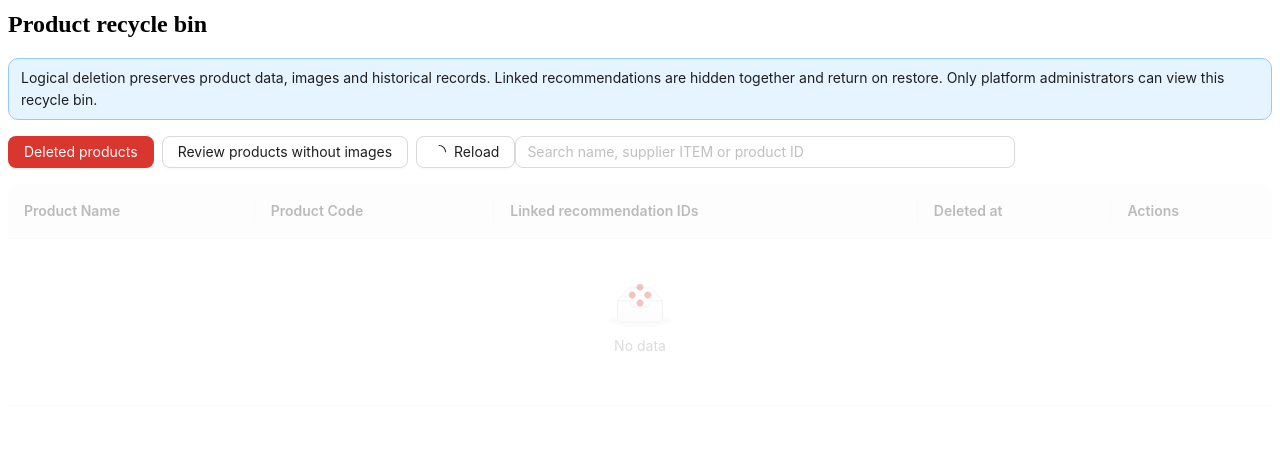
reviews no-image selection, uses versioned logical delete and reloads without duplicate submission
Click the button "Review products without images".
click(285, 152)  # box [162,136,408,168]
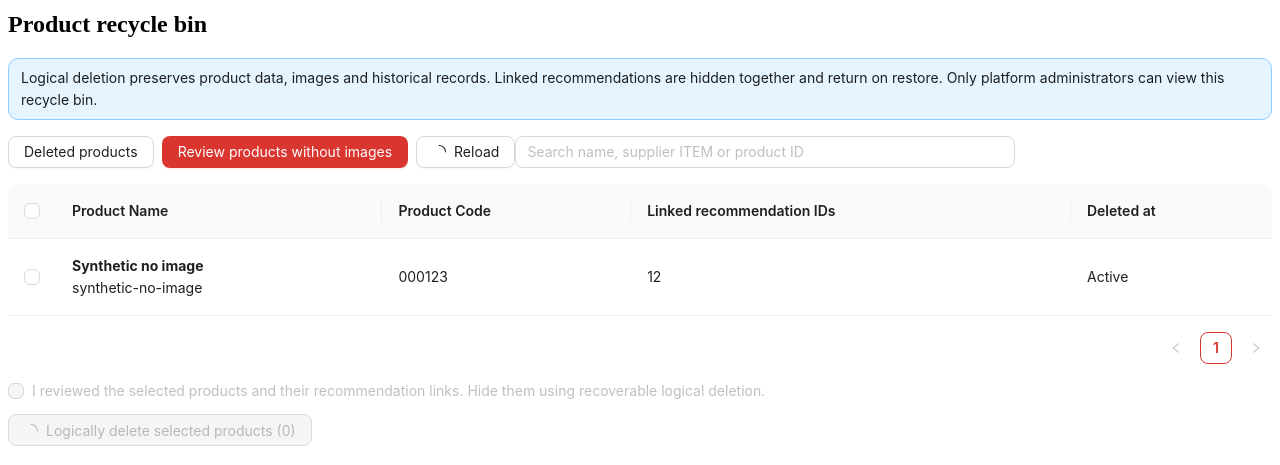
Check: the button "Logically delete selected products (0)" is disabled, box [8,414,312,446]
Click the checkbox next to "Synthetic no image".
click(32, 277)  # box [24,266,40,288]
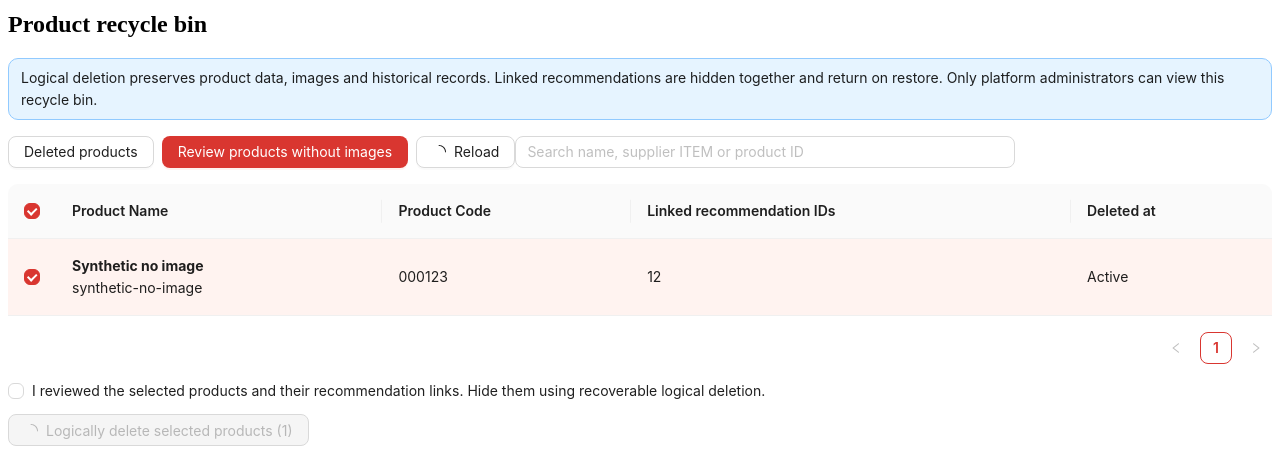
Click the checkbox labelled "I reviewed the selected products".
click(391, 391)  # box [8,380,773,402]
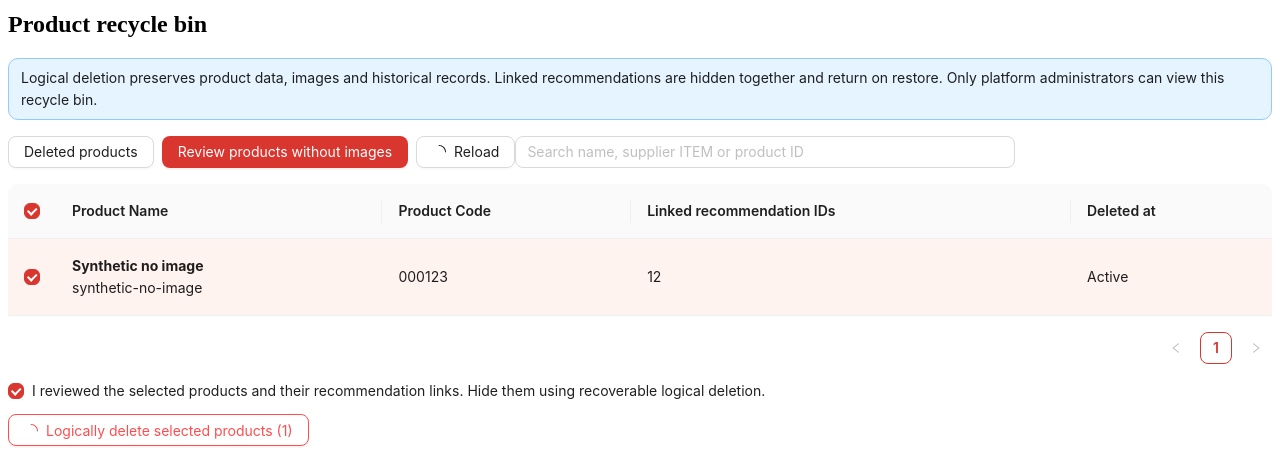
Check: the button "Logically delete selected products (1)" is enabled
Click the button "Logically delete selected products (1)".
click(158, 430)  # box [8,414,308,446]
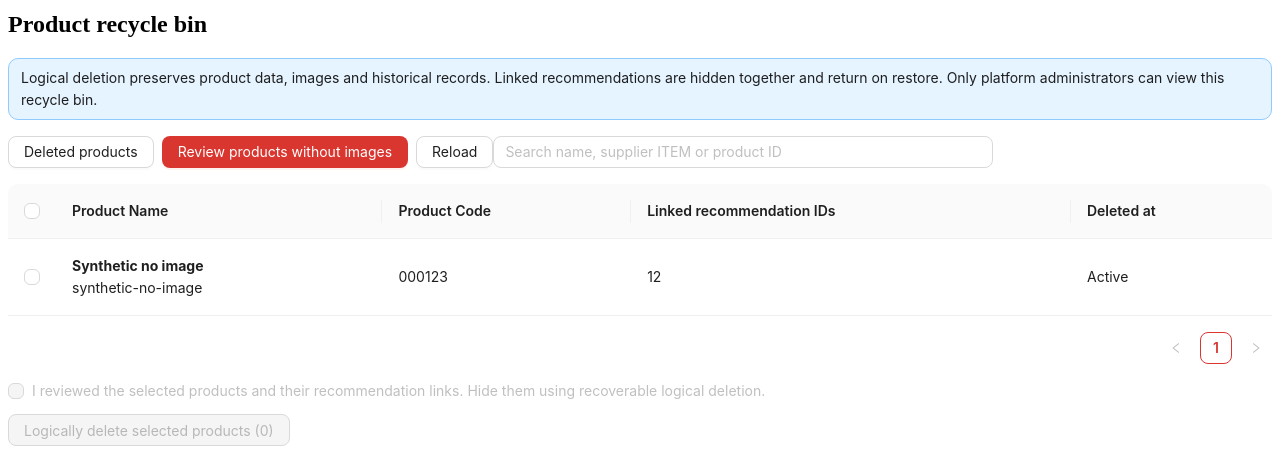
Check: the button "Logically delete selected products (0)" is disabled, box [8,414,290,446]
